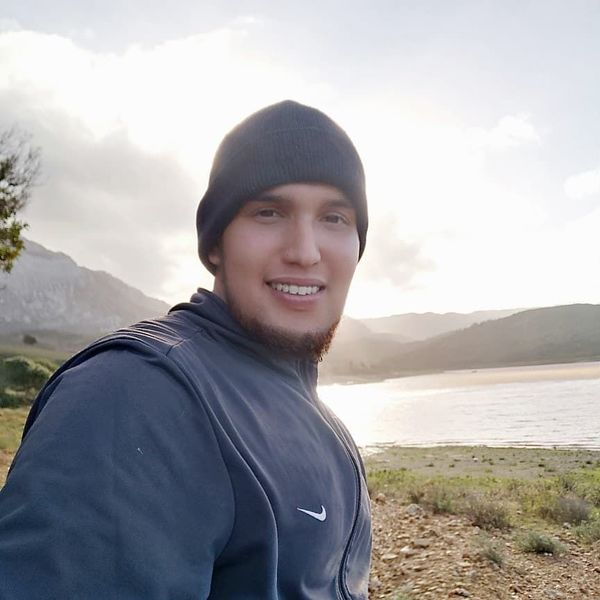nike: (294, 501, 332, 525)
